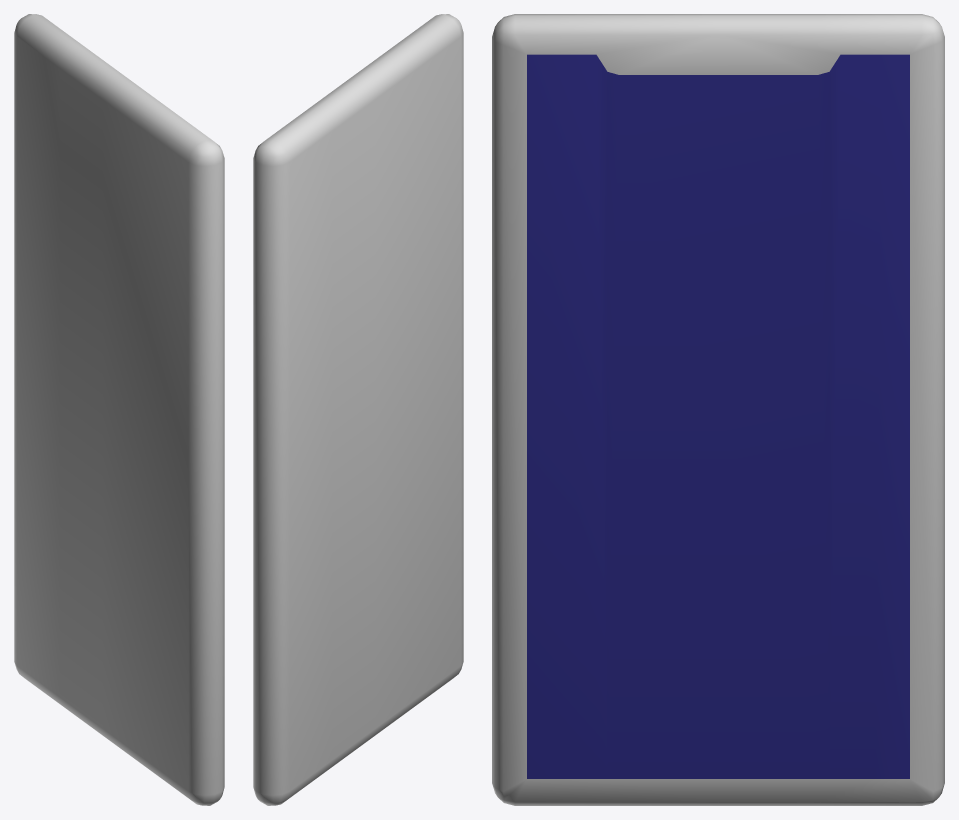
Rendered from phone.fbx.
3 renders of one model, left to right at view 1: azimuth 30°, elevation 25°; view 2: azimuth 150°, elevation 25°; view 3: azimuth 270°, elevation 25°, orthographic. The views are drawn at different scales.
Visible parts, largest first — view 1: Cube; view 2: Cube; view 3: Cube.
Boxes of the visible parts, bbox=[...] form: Cube: bbox=[14, 14, 224, 805]; Cube: bbox=[253, 14, 463, 805]; Cube: bbox=[492, 14, 944, 805].
Bounding box in the file's own units: 17.93 × 338 × 176.
